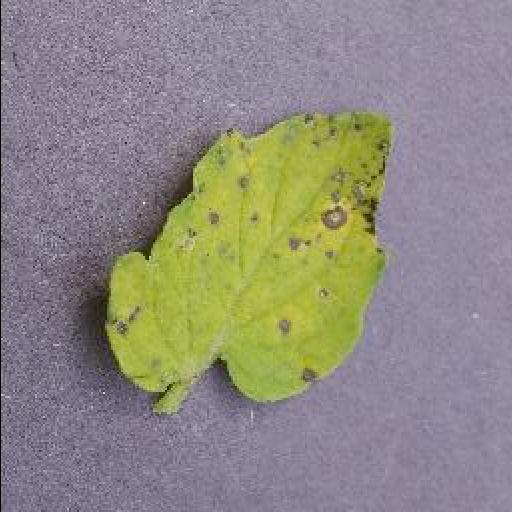disease_tomato: (102, 110, 398, 400)
